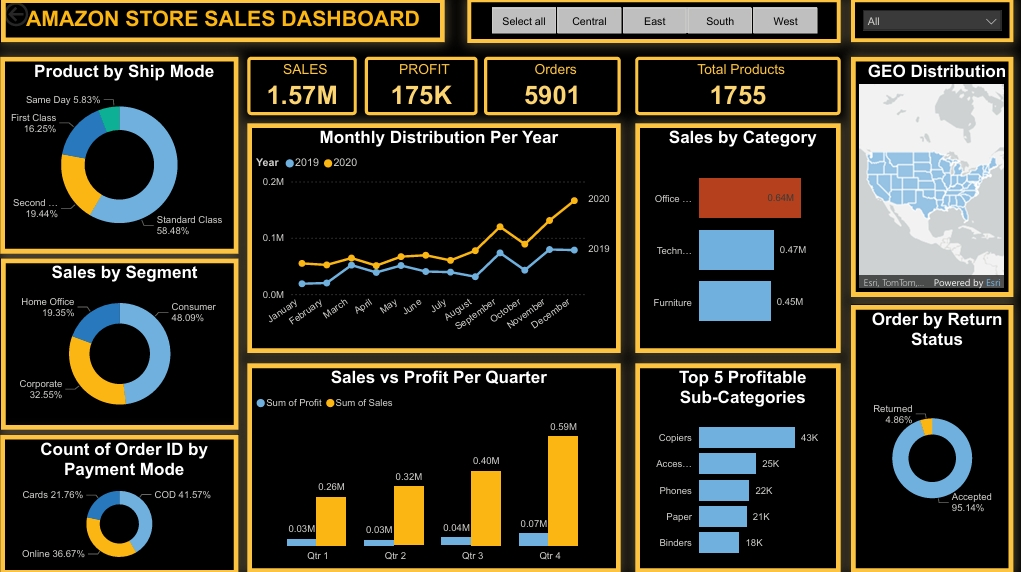

The page's visual inventory and layout, read from the dashboard file:
{"tool":"powerbi","page":{"name":"Page 1","canvas":[1280,720],"ordinal":0},"visuals":[{"type":"clusteredBarChart","title":"Sales by Category","fields":{"Category":["Sheet1.Category"],"Y":["Sum(Sheet1.Sales)"]},"box":[794,156,257,287],"z":0},{"type":"clusteredBarChart","title":"Top 5 Profitable Sub-Categories","fields":{"Y":["Sum(Sheet1.Profit)"],"Category":["Sheet1.Sub-Category"]},"box":[794,456,257,262],"z":1000},{"type":"donutChart","title":"Sales by Segment","fields":{"Y":["Sum(Sheet1.Sales)"],"Category":["Sheet1.Segment"]},"box":[1,325,297,214],"z":2000},{"type":"donutChart","title":"Product by Ship Mode","fields":{"Category":["Sheet1.Ship Mode"],"Y":["CountNonNull(Sheet1.Segment)"]},"box":[0,73,298,246],"z":3000},{"type":"donutChart","title":"Order by Return Status","fields":{"Y":["CountNonNull(Sheet1.Order ID)"],"Category":["Sheet1.Return Status"]},"box":[1064,383,203,335],"z":4000},{"type":"actionButton","box":[0,0,100,40],"z":5000},{"type":"lineChart","title":"Monthly Distribution Per Year","fields":{"Category":["Sheet1.Order Date.Variation.Date Hierarchy.Month"],"Y":["Sum(Sheet1.Sales)"],"Series":["Sheet1.Order Date.Variation.Date Hierarchy.Year"]},"box":[309,156,467,287],"z":6000},{"type":"clusteredColumnChart","title":"Sales vs Profit Per Quarter","fields":{"Y":["Sum(Sheet1.Profit)","Sum(Sheet1.Sales)"],"Category":["Sheet1.Order Date.Variation.Date Hierarchy.Quarter"]},"box":[309,456,467,262],"z":7000},{"type":"esriVisual","title":"GEO Distribution","fields":{"Location":["Sheet1.State"]},"box":[1064,73,203,300],"z":8000},{"type":"donutChart","fields":{"Category":["Sheet1.Payment Mode"],"Y":["CountNonNull(Sheet1.Order ID)"]},"box":[0,545,298,175],"z":9000},{"type":"slicer","fields":{"Values":["Sheet1.Region"]},"box":[584.4,0,466.7,55.6],"z":10000},{"type":"textbox","box":[1,0,555,55],"z":11000},{"type":"slicer","fields":{"Values":["Sheet1.State"]},"box":[1064,0,203,55],"z":12000},{"type":"card","title":"SALES","fields":{"Values":["Sum(Sheet1.Sales)"]},"box":[309,73,137,73],"z":13000},{"type":"card","title":"PROFIT","fields":{"Values":["Sum(Sheet1.Profit)"]},"box":[456,73,141,73],"z":14000},{"type":"card","title":"Orders","fields":{"Values":["CountNonNull(Sheet1.Order ID)"]},"box":[605,73,171,73],"z":15000},{"type":"card","title":"Total Products","fields":{"Values":["Count(Sheet1.Product ID)"]},"box":[794,73,257,73],"z":15001}]}

Visuals, with their boxes in screenshot pixels (x1, y1, x2, y2), scaled from the page's 1280x720 canvas onto the 1021x572 screenshot:
"Sales by Category" clusteredBarChart: crop(633, 124, 838, 352)
"Top 5 Profitable Sub-Categories" clusteredBarChart: crop(633, 362, 838, 570)
"Sales by Segment" donutChart: crop(1, 258, 238, 428)
"Product by Ship Mode" donutChart: crop(0, 58, 238, 253)
"Order by Return Status" donutChart: crop(849, 304, 1011, 570)
actionButton: crop(0, 0, 80, 32)
"Monthly Distribution Per Year" lineChart: crop(246, 124, 619, 352)
"Sales vs Profit Per Quarter" clusteredColumnChart: crop(246, 362, 619, 570)
"GEO Distribution" esriVisual: crop(849, 58, 1011, 296)
donutChart - Sheet1.Payment Mode x CountNonNull(Sheet1.Order ID): crop(0, 433, 238, 571)
slicer - Sheet1.Region: crop(466, 0, 838, 44)
textbox: crop(1, 0, 443, 44)
slicer - Sheet1.State: crop(849, 0, 1011, 44)
"SALES" card: crop(246, 58, 356, 116)
"PROFIT" card: crop(364, 58, 476, 116)
"Orders" card: crop(483, 58, 619, 116)
"Total Products" card: crop(633, 58, 838, 116)
